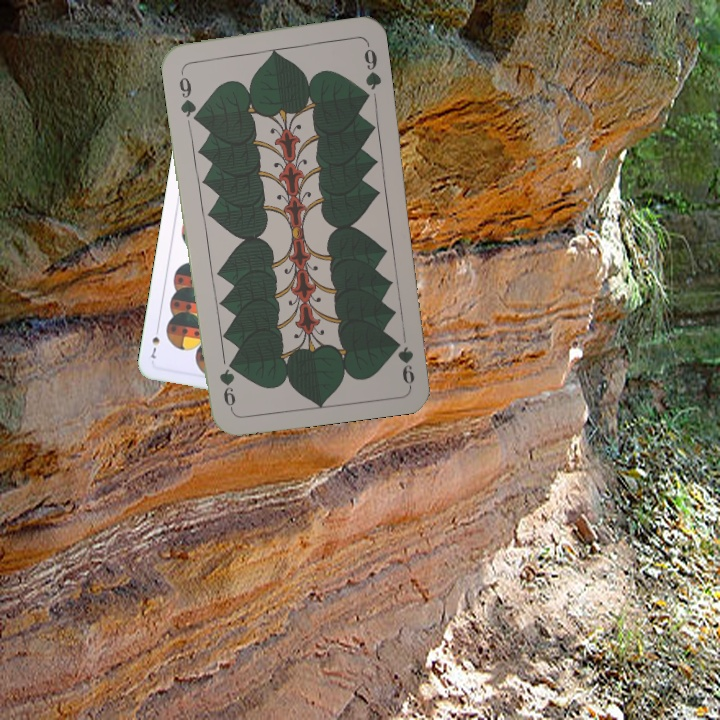G9: (175, 65, 201, 123), (391, 335, 417, 387)
